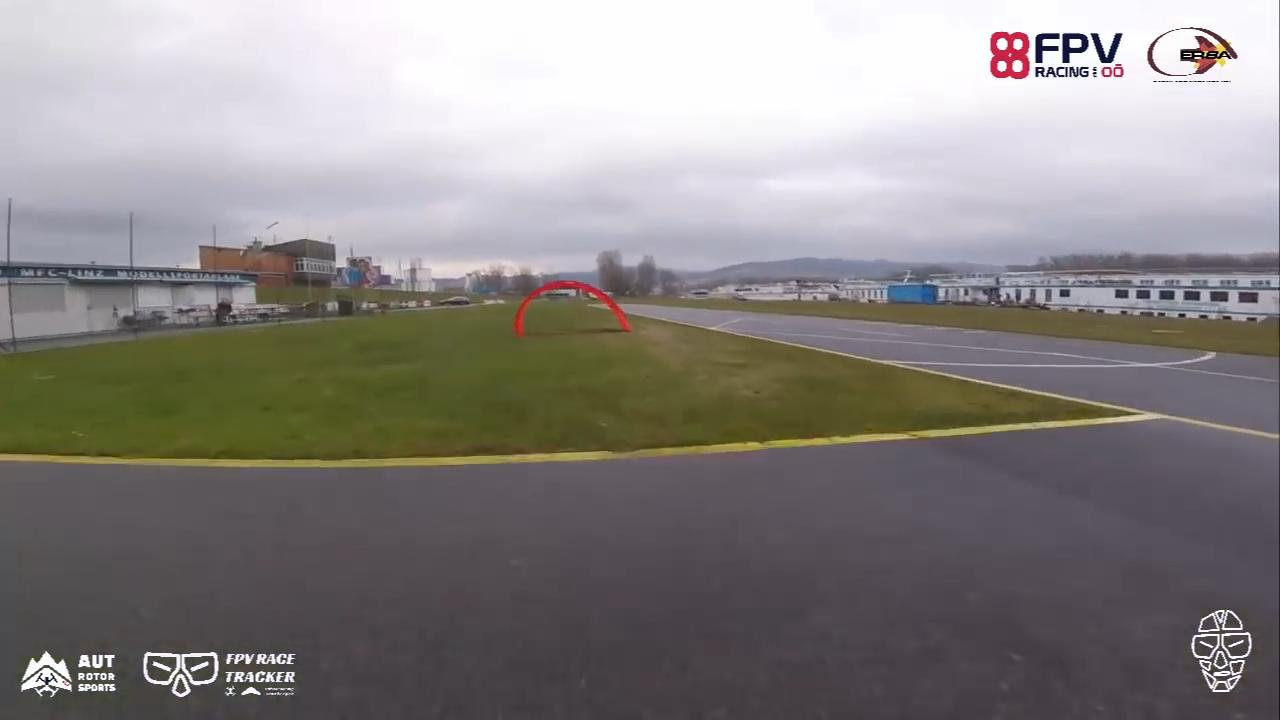gate: (511, 278, 642, 336)
